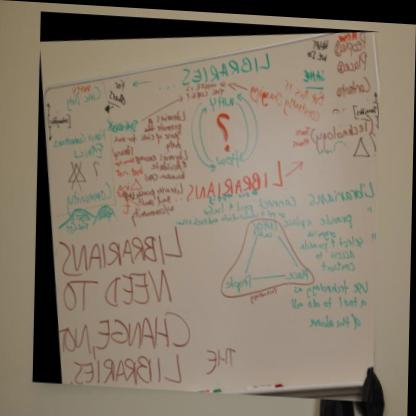Handwritten text: (58, 305, 199, 360), (71, 340, 247, 384), (55, 223, 195, 278), (196, 173, 378, 213), (55, 261, 181, 318), (181, 153, 291, 203), (175, 45, 277, 85), (245, 76, 323, 125), (54, 173, 122, 221), (306, 106, 376, 152), (292, 273, 376, 302), (175, 204, 265, 227), (125, 194, 185, 226), (275, 71, 329, 105), (298, 227, 368, 251), (120, 179, 189, 202), (283, 205, 358, 226), (53, 125, 112, 150), (307, 306, 363, 332), (114, 148, 194, 166), (290, 292, 373, 309), (335, 20, 376, 54), (111, 126, 188, 143), (330, 70, 376, 97), (63, 81, 102, 110), (246, 277, 285, 306), (183, 76, 231, 98), (70, 142, 111, 167), (310, 242, 360, 258), (319, 252, 361, 271), (134, 191, 179, 208), (304, 33, 331, 60), (215, 144, 245, 168), (108, 76, 132, 105), (343, 45, 370, 70), (152, 105, 190, 122), (143, 168, 192, 181), (225, 270, 256, 290), (284, 262, 315, 280), (291, 119, 313, 144), (149, 158, 192, 170), (211, 90, 236, 110), (303, 62, 327, 81), (305, 224, 342, 235), (155, 120, 187, 131), (164, 136, 187, 151)
Whiteboard: (32, 23, 386, 401)
